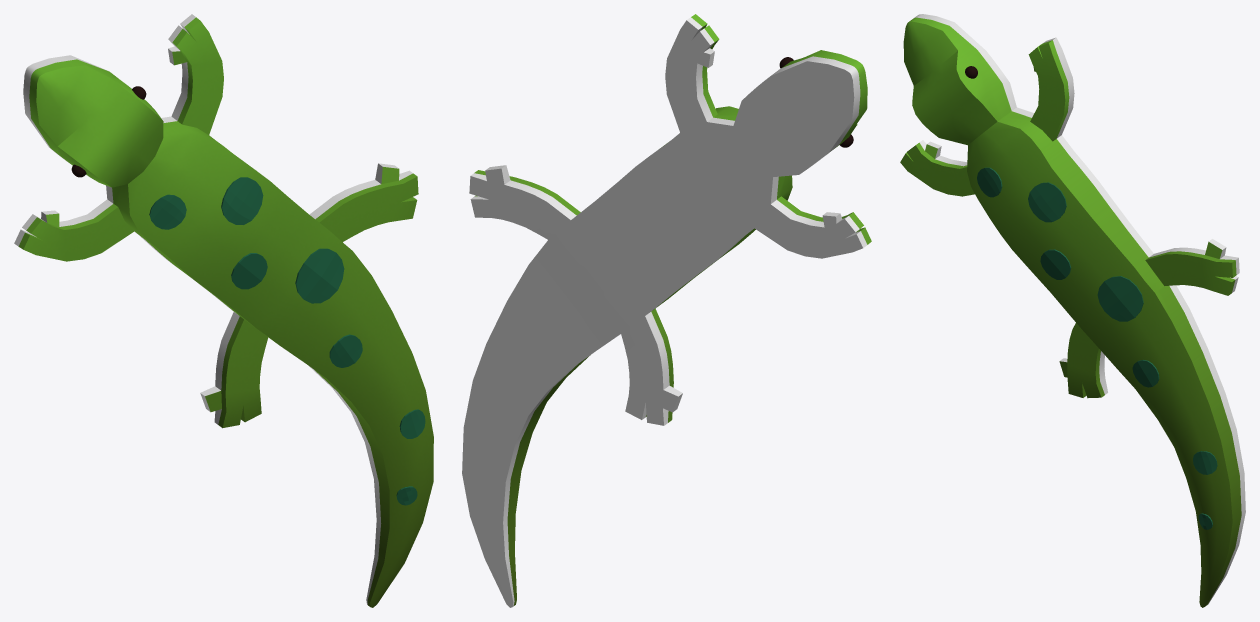
The model's file is Lizard.gltf.
3 views of the same model, side by side, from view 1: azimuth 30°, elevation 25°; view 2: azimuth 150°, elevation 25°; view 3: azimuth 330°, elevation 25° (orthographic). The views are drawn at different scales.
Parts seen in each view (by area): view 1: Cube.045, Plane.161; view 2: Cube.045; view 3: Cube.045, Plane.161.
Boxes of the visible parts, <box> form: Cube.045: <box>14,14,433,607</box>; Plane.161: <box>149,177,425,505</box>; Cube.045: <box>462,14,871,607</box>; Cube.045: <box>900,14,1245,607</box>; Plane.161: <box>977,167,1217,529</box>.
Size of the model in its own units: 1.43 by 2.14 by 0.2058.
3 materials, 1 textured.
